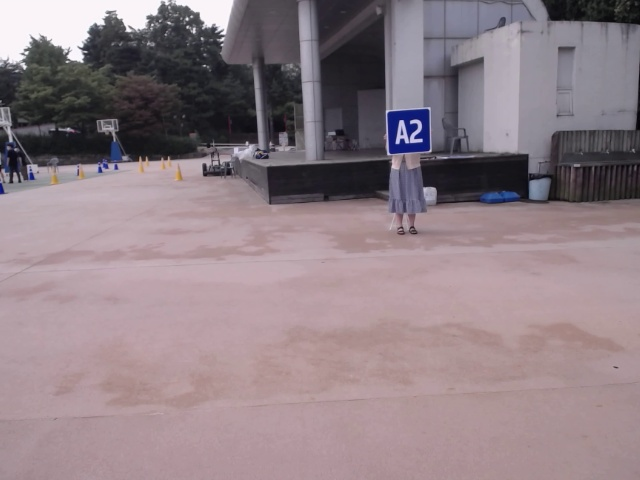delivery_a2: (386, 106, 431, 156)
